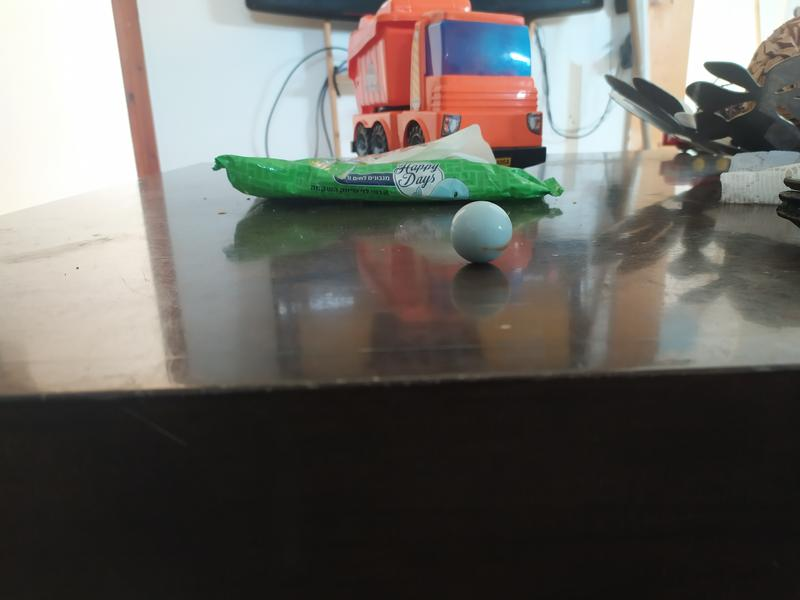Warning: (448, 199, 515, 266)
